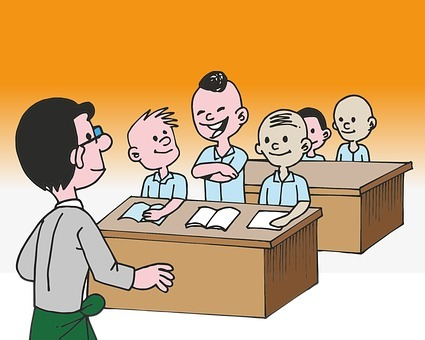person: (5, 92, 174, 336), (188, 67, 249, 203), (122, 104, 187, 228), (253, 105, 308, 235), (330, 92, 377, 165)
